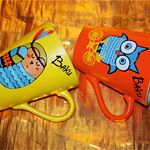cups: (1, 20, 80, 123), (73, 23, 150, 124)
